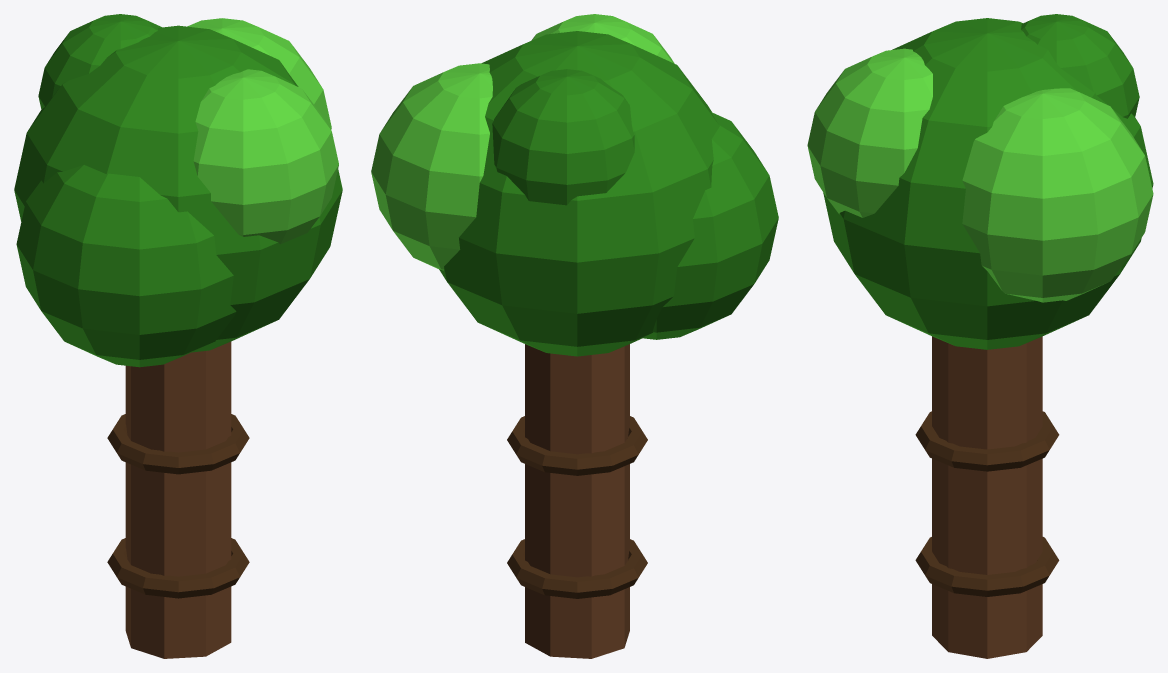
The model's file is prop_verdania_tree.fbx.
The picture shows the model from 3 angles, left to right: view 1: azimuth 30°, elevation 25°; view 2: azimuth 150°, elevation 25°; view 3: azimuth 270°, elevation 25°; orthographic projection.
Parts seen in each view (by area): view 1: V_Tree_Canopy_0, V_Tree_Canopy_2, V_Tree_Trunk, V_Tree_Canopy_3, V_Tree_Canopy_4, V_Tree_BarkRing_1, V_Tree_BarkRing_0, V_Tree_Canopy_1; view 2: V_Tree_Canopy_0, V_Tree_Trunk, V_Tree_Canopy_1, V_Tree_Canopy_4, V_Tree_Canopy_2, V_Tree_BarkRing_0, V_Tree_BarkRing_1, V_Tree_Canopy_3; view 3: V_Tree_Canopy_0, V_Tree_Canopy_1, V_Tree_Trunk, V_Tree_Canopy_3, V_Tree_Canopy_4, V_Tree_BarkRing_1, V_Tree_BarkRing_0.
Boxes of the visible parts, left/top/right/bottom form: V_Tree_Canopy_0: left=14, top=25, right=342, bottom=352; V_Tree_Canopy_2: left=16, top=165, right=236, bottom=367; V_Tree_Trunk: left=125, top=341, right=231, bottom=658; V_Tree_Canopy_3: left=193, top=69, right=338, bottom=244; V_Tree_Canopy_4: left=38, top=14, right=161, bottom=109; V_Tree_BarkRing_1: left=107, top=414, right=249, bottom=474; V_Tree_BarkRing_0: left=107, top=538, right=249, bottom=598; V_Tree_Canopy_1: left=187, top=18, right=331, bottom=129; V_Tree_Canopy_0: left=439, top=31, right=719, bottom=356; V_Tree_Trunk: left=525, top=344, right=629, bottom=658; V_Tree_Canopy_1: left=371, top=63, right=492, bottom=270; V_Tree_Canopy_4: left=492, top=69, right=634, bottom=205; V_Tree_Canopy_2: left=643, top=112, right=778, bottom=339; V_Tree_BarkRing_0: left=507, top=539, right=647, bottom=598; V_Tree_BarkRing_1: left=507, top=416, right=647, bottom=475; V_Tree_Canopy_3: left=531, top=14, right=674, bottom=63; V_Tree_Canopy_0: left=823, top=18, right=1153, bottom=349; V_Tree_Canopy_1: left=962, top=88, right=1153, bottom=302; V_Tree_Trunk: left=932, top=336, right=1042, bottom=658; V_Tree_Canopy_3: left=807, top=48, right=932, bottom=217; V_Tree_Canopy_4: left=1021, top=14, right=1139, bottom=118; V_Tree_BarkRing_1: left=915, top=411, right=1059, bottom=471; V_Tree_BarkRing_0: left=915, top=537, right=1059, bottom=596.
Bounding box in the file's own units: 1.4 × 2.4 × 1.25.
